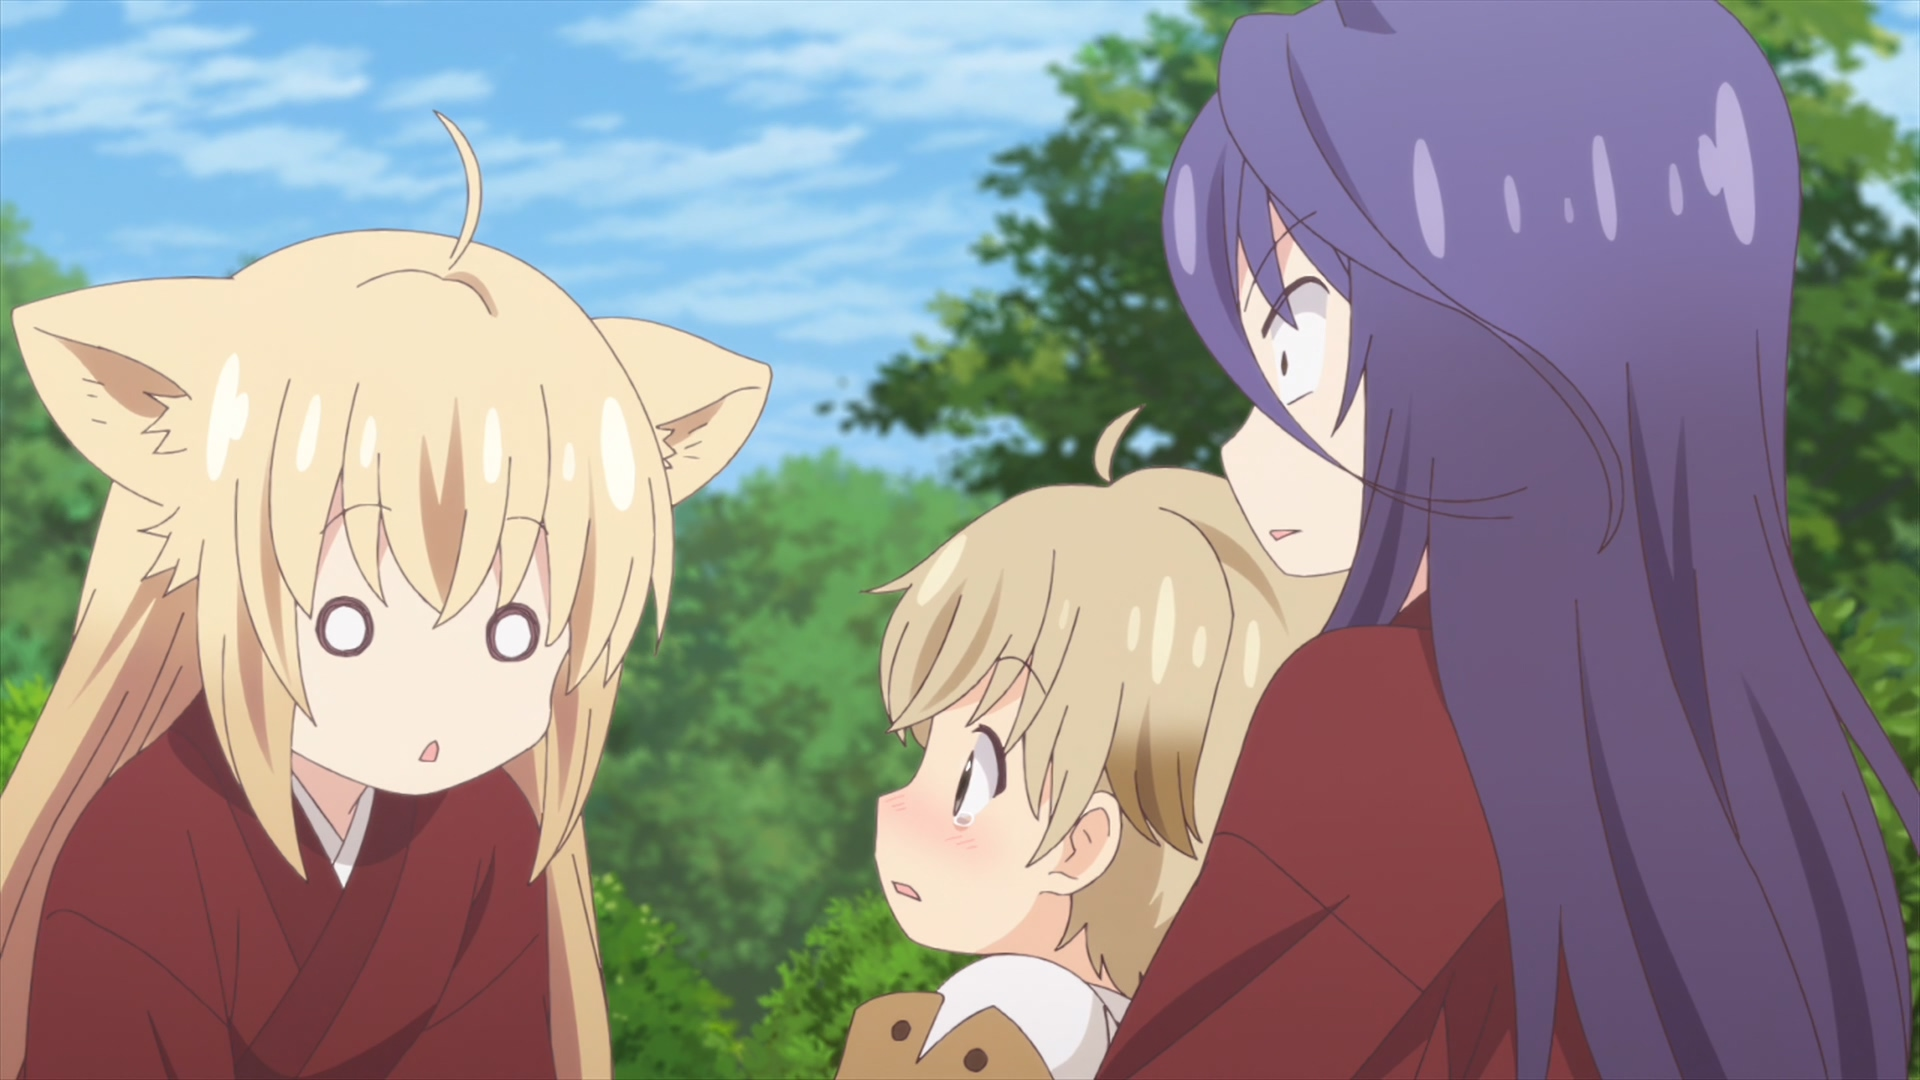其他: (833, 402, 1352, 1080)
柚: (1, 113, 774, 1080)
皋: (1096, 1, 1920, 1080)
